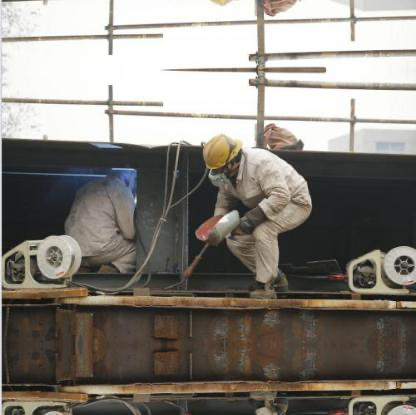helmet: (198, 130, 243, 179), (197, 0, 243, 11)
